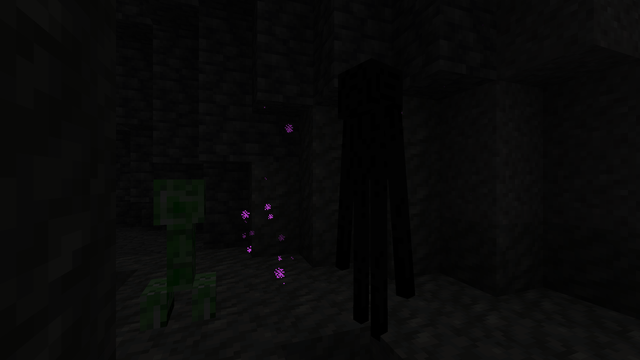creepers: (146, 172, 210, 331)
endermens: (334, 47, 409, 347)
